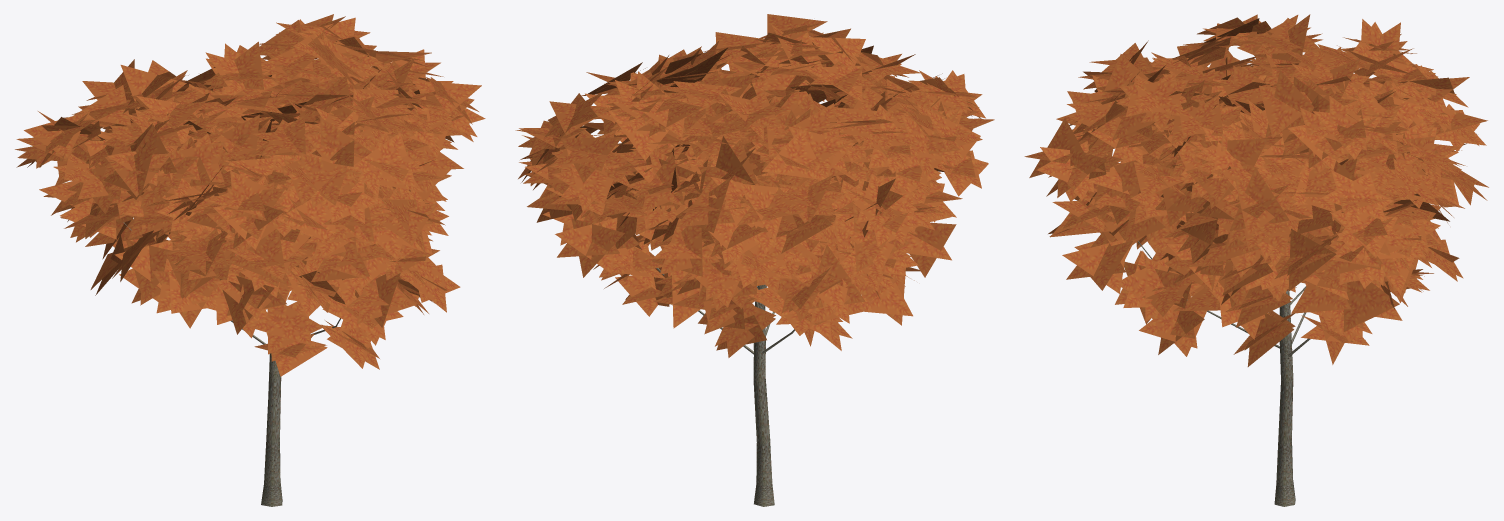
The model's file is Zelkova_Serrata_Autumn_Young.glb.
3 views of the same model, side by side, from view 1: azimuth 30°, elevation 25°; view 2: azimuth 150°, elevation 25°; view 3: azimuth 270°, elevation 25° (orthographic).
Visible parts, largest first — view 1: Zelkova_Serrata_Autumn_Young__LOD3; view 2: Zelkova_Serrata_Autumn_Young__LOD3; view 3: Zelkova_Serrata_Autumn_Young__LOD3.
Part boxes in pixels (x1=…): Zelkova_Serrata_Autumn_Young__LOD3: x1=15, y1=14, x2=485, y2=506; Zelkova_Serrata_Autumn_Young__LOD3: x1=515, y1=14, x2=994, y2=506; Zelkova_Serrata_Autumn_Young__LOD3: x1=1024, y1=14, x2=1488, y2=506.
Size of the model in its own units: 7.47 by 7.78 by 7.28.
2 materials, 2 textured.
